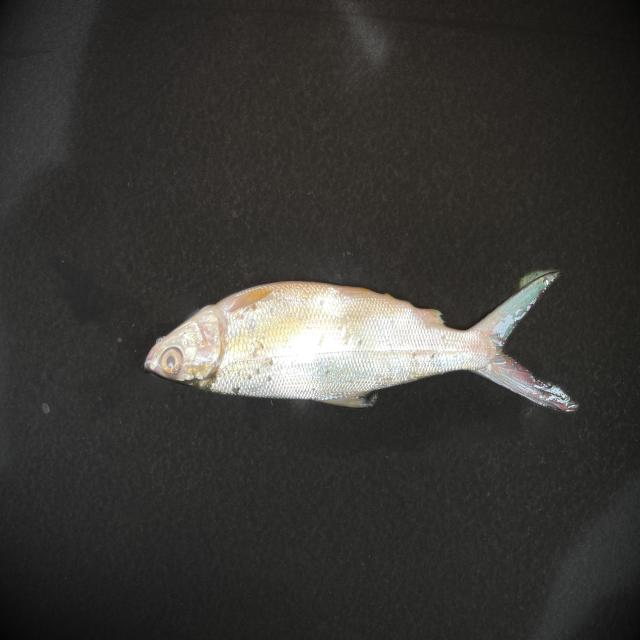600 g: (144, 271, 579, 412)
